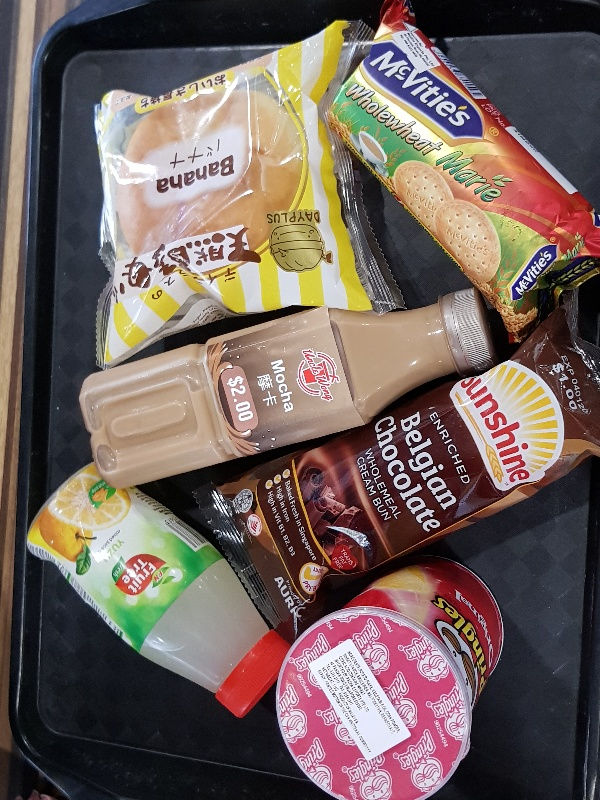Dayplus Banana: (93, 19, 406, 368)
Fruit Tree Yuzu Mixed Juice Drink: (24, 463, 292, 719)
McVitie's Wholewheat Marie: (324, 2, 600, 343)
Mocha: (78, 287, 491, 491)
Pringles Original: (275, 557, 504, 800)
Sunshine Belgium Chocolate Wholemeal Cream Bun: (197, 303, 600, 630)
